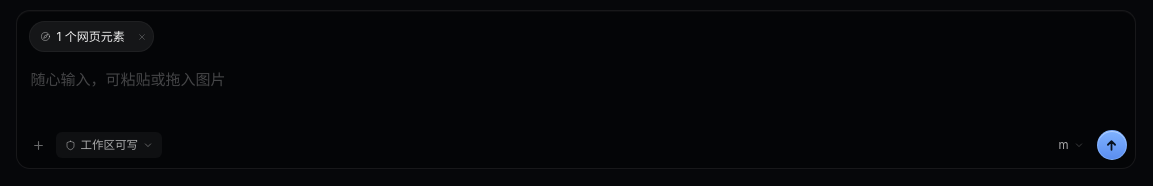
Test: 网页元素附件 › 发送后清空附件
The image size is (1153, 186).
Click the button with class "send-btn".
click(1112, 145)  # box [1096,130,1126,160]
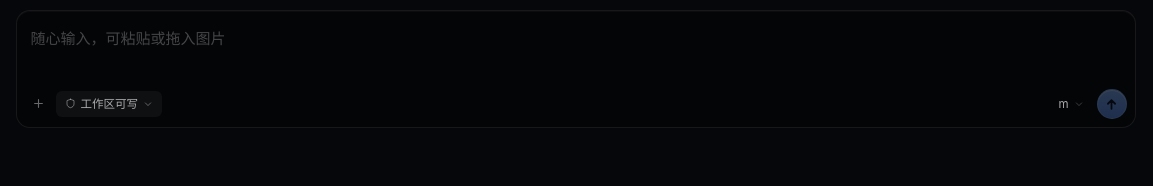
Expected: the button with class "attach-open" is gone
